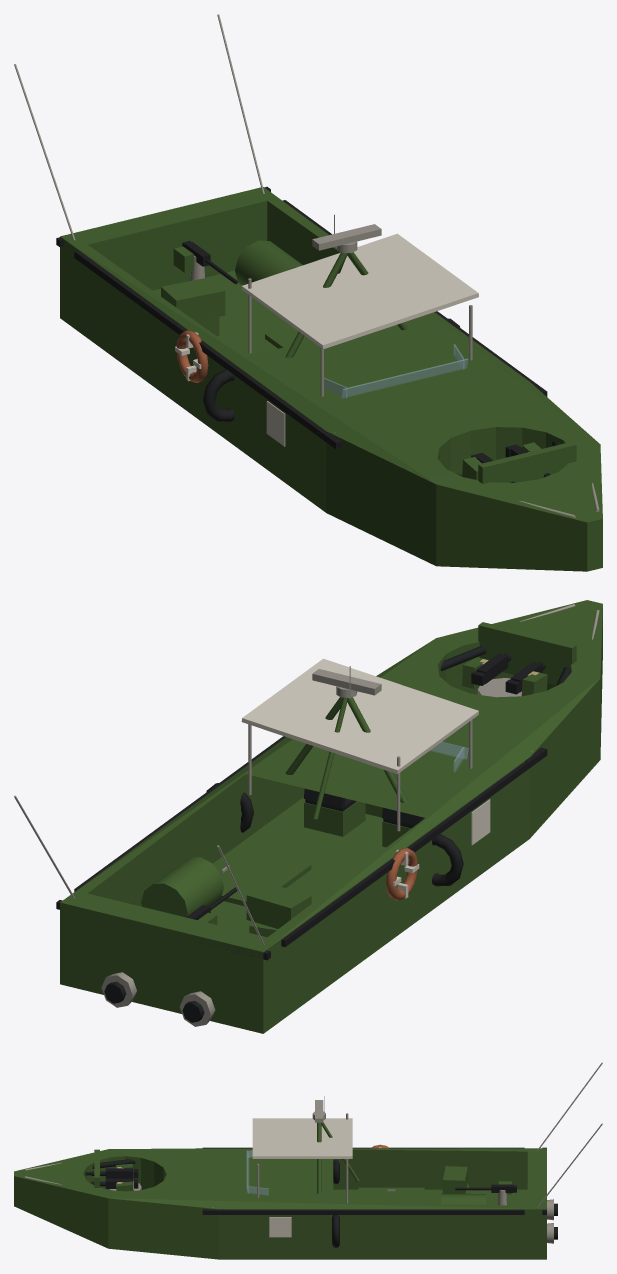
Rendered from pbr-river-patrol-boat.glb.
The picture shows the model from 3 angles, top to bottom: view 1: azimuth 30°, elevation 25°; view 2: azimuth 150°, elevation 25°; view 3: azimuth 270°, elevation 25°; orthographic projection. The views are drawn at different scales.
Visible parts, largest first — view 1: Mesh_HollowHull, Mesh_AwningCanvas, Mesh_BumperPort, Mesh_GunShield, Mesh_AftAmmoCrate2, Mesh_FuelDrum, Mesh_WindshieldFront, Mesh_TireFenderPort, Mesh_LifeBuoyPort, Mesh_RadarScanner; view 2: Mesh_HollowHull, Mesh_AwningCanvas, Mesh_GunShield, Mesh_FuelDrum, Mesh_EngineHatchStarboard, Mesh_BumperPort, Mesh_AftAmmoCrate2, Mesh_SeatBaseStarboard, Mesh_EngineHatchPort, Mesh_RadarScanner, Mesh_TireFenderPort, Mesh_LifeBuoyPort (+5 smaller); view 3: Mesh_HollowHull, Mesh_AwningCanvas, Mesh_BumperStarboard, Mesh_EngineHatchPort, Mesh_AftAmmoCrate2, Mesh_FuelDrum, Mesh_DecalStarStarboard, Mesh_BumperPort, Mesh_GunReceiverPort, Mesh_MastLegStarboard.
Boxes of the visible parts, box(x1,y1,x2,y2) form: Mesh_HollowHull: box(60, 187, 602, 571); Mesh_AwningCanvas: box(241, 233, 478, 349); Mesh_BumperPort: box(74, 250, 342, 449); Mesh_GunShield: box(478, 441, 576, 483); Mesh_AftAmmoCrate2: box(161, 277, 225, 321); Mesh_FuelDrum: box(235, 240, 302, 285); Mesh_WindshieldFront: box(341, 358, 468, 398); Mesh_TireFenderPort: box(203, 369, 234, 421); Mesh_LifeBuoyPort: box(176, 330, 208, 382); Mesh_RadarScanner: box(312, 224, 381, 250); Mesh_HollowHull: box(60, 600, 602, 1033); Mesh_AwningCanvas: box(241, 658, 478, 774); Mesh_GunShield: box(478, 622, 576, 684); Mesh_FuelDrum: box(141, 857, 223, 917); Mesh_EngineHatchStarboard: box(215, 847, 311, 906); Mesh_BumperPort: box(281, 747, 547, 947); Mesh_AftAmmoCrate2: box(246, 883, 311, 928); Mesh_SeatBaseStarboard: box(304, 801, 365, 836); Mesh_EngineHatchPort: box(289, 866, 350, 903); Mesh_RadarScanner: box(312, 669, 381, 695); Mesh_TireFenderPort: box(432, 834, 463, 886); Mesh_LifeBuoyPort: box(386, 848, 417, 900); Mesh_HollowHull: box(14, 1148, 546, 1259); Mesh_AwningCanvas: box(252, 1118, 352, 1158); Mesh_BumperStarboard: box(202, 1209, 524, 1214); Mesh_EngineHatchPort: box(358, 1187, 424, 1204); Mesh_AftAmmoCrate2: box(442, 1166, 467, 1193); Mesh_FuelDrum: box(441, 1194, 485, 1204); Mesh_DecalStarStarboard: box(269, 1217, 291, 1237); Mesh_BumperPort: box(203, 1147, 524, 1148); Mesh_GunReceiverPort: box(105, 1168, 133, 1178); Mesh_MastLegStarboard: box(317, 1122, 321, 1194).
Size of the model in its own units: 3.32 by 2.76 by 10.61.
2 materials, 2 textured.
